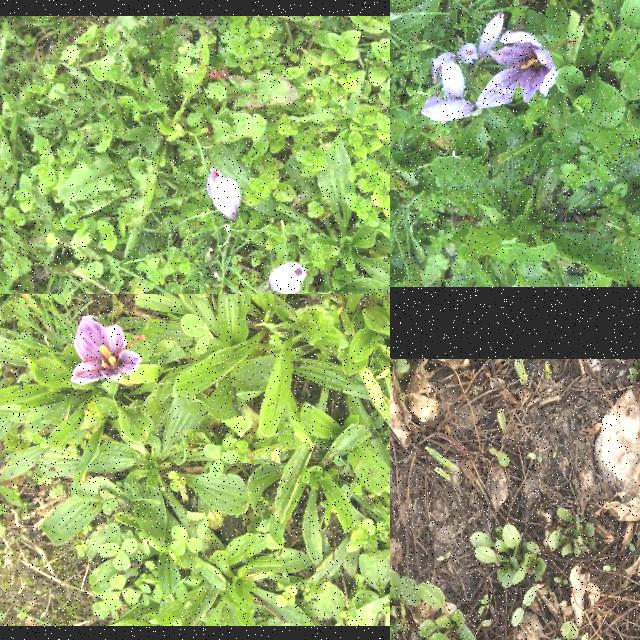flower: (477, 31, 559, 108), (71, 316, 145, 386), (207, 168, 241, 220), (477, 12, 505, 64), (422, 96, 476, 122), (441, 62, 465, 100), (458, 44, 478, 64)
